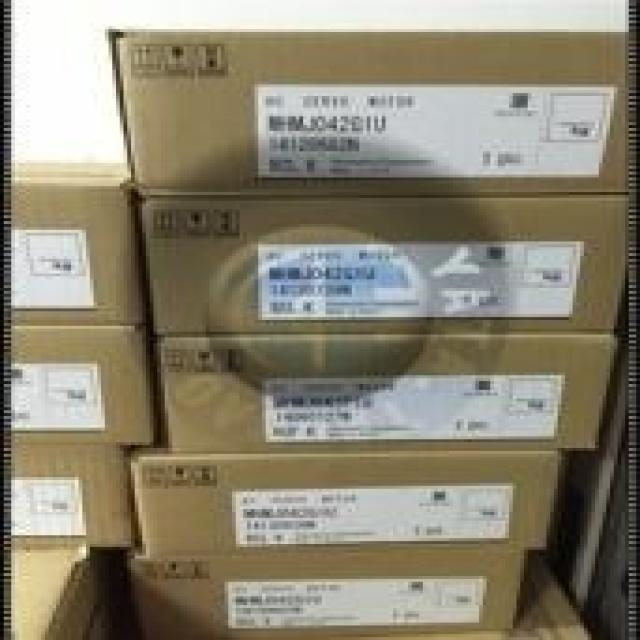box: (109, 29, 629, 198), (135, 195, 629, 335), (153, 335, 618, 451), (127, 436, 561, 556), (127, 547, 524, 640), (11, 163, 150, 326), (11, 329, 165, 445), (11, 448, 138, 553), (15, 550, 109, 640)
